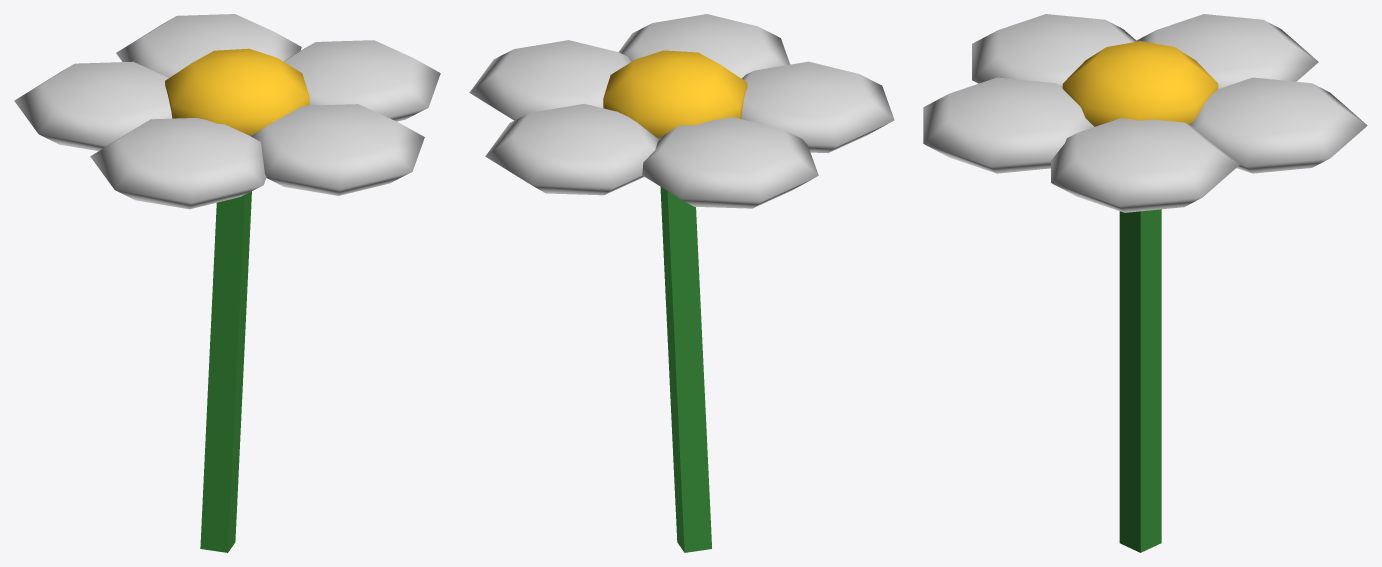
Rendered from flower.glb.
The picture shows the model from 3 angles, left to right: view 1: azimuth 30°, elevation 25°; view 2: azimuth 150°, elevation 25°; view 3: azimuth 270°, elevation 25°; orthographic projection. The views are drawn at different scales.
Parts seen in each view (by area): view 1: FlowerPetal, FlowerStem, FlowerCenter; view 2: FlowerPetal, FlowerStem, FlowerCenter; view 3: FlowerPetal, FlowerStem, FlowerCenter.
Boxes of the visible parts, x1,y1,x2,y2 form: FlowerPetal: (14, 14, 440, 209); FlowerStem: (200, 191, 251, 552); FlowerCenter: (165, 48, 309, 135); FlowerPetal: (469, 14, 894, 208); FlowerStem: (660, 186, 711, 552); FlowerCenter: (603, 50, 747, 138); FlowerPetal: (923, 14, 1367, 212); FlowerStem: (1119, 209, 1161, 552); FlowerCenter: (1062, 41, 1218, 126).
Size of the model in its own units: 0.3738 by 0.4729 by 0.3803.
